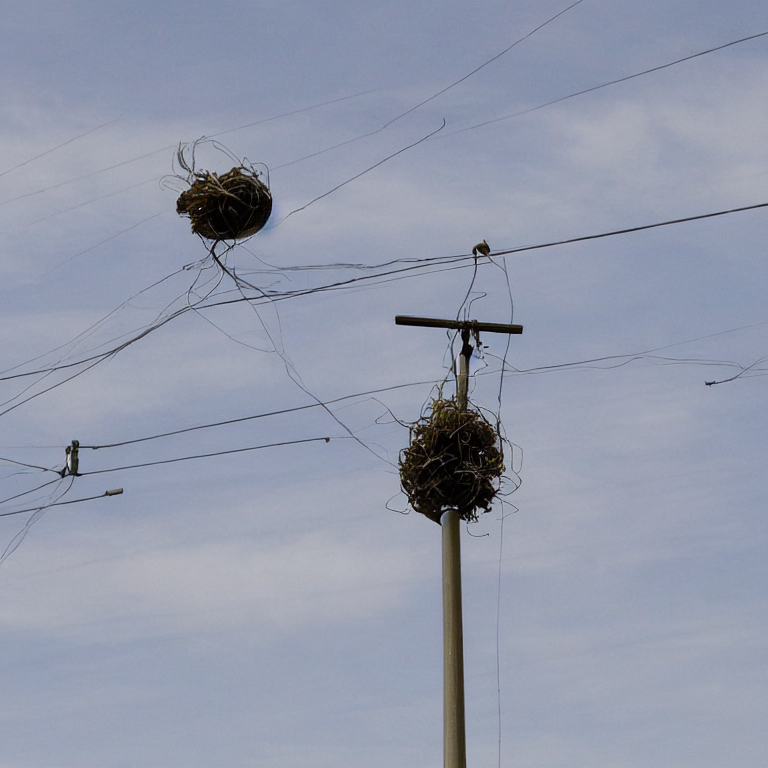nest: (400, 405, 505, 516), (182, 174, 271, 237)
